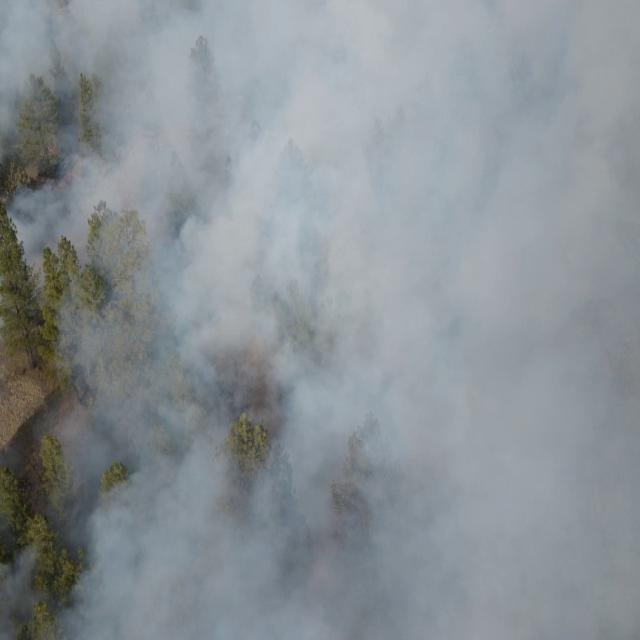fire: (44, 144, 60, 158)
smoke: (49, 265, 640, 640), (0, 0, 640, 265), (0, 522, 49, 640), (1, 450, 22, 476)
